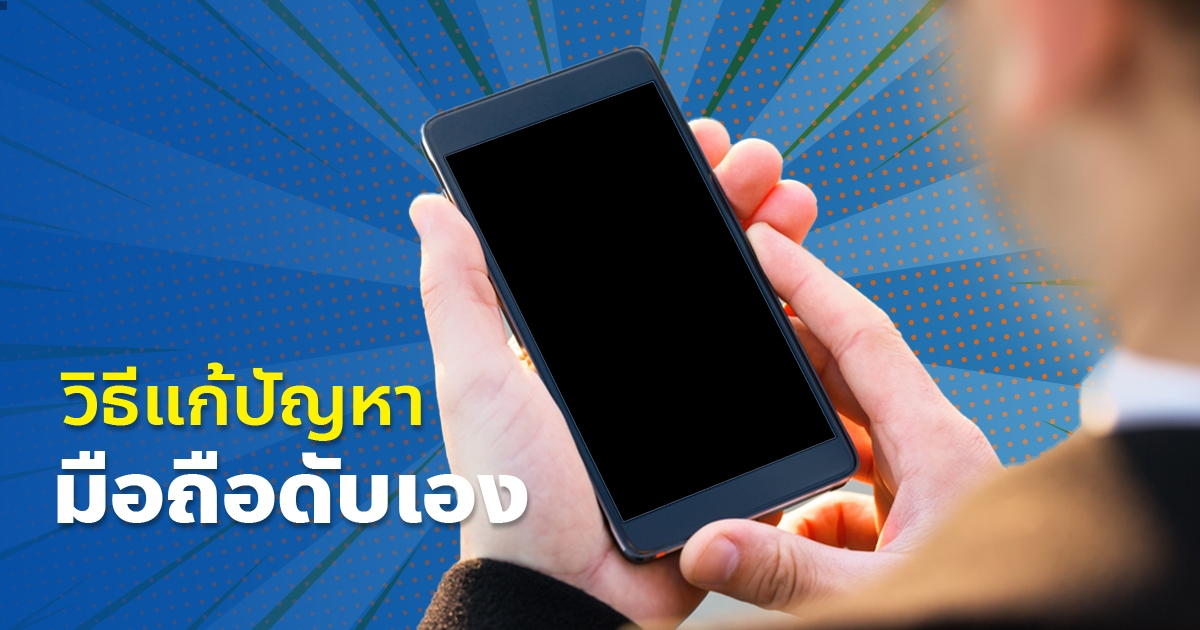Phone: (419, 43, 861, 563)
